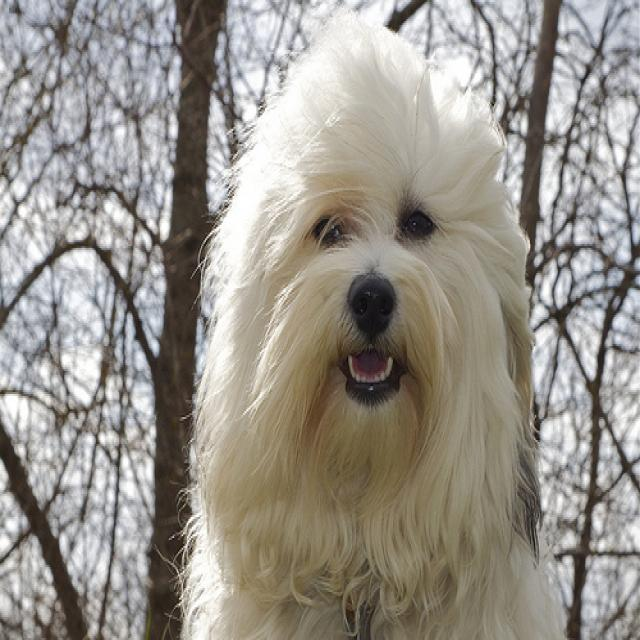dog-havanese: (150, 2, 580, 636)
